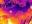Hotspot: (0, 11, 9, 23), (7, 19, 17, 23), (29, 19, 31, 23)
